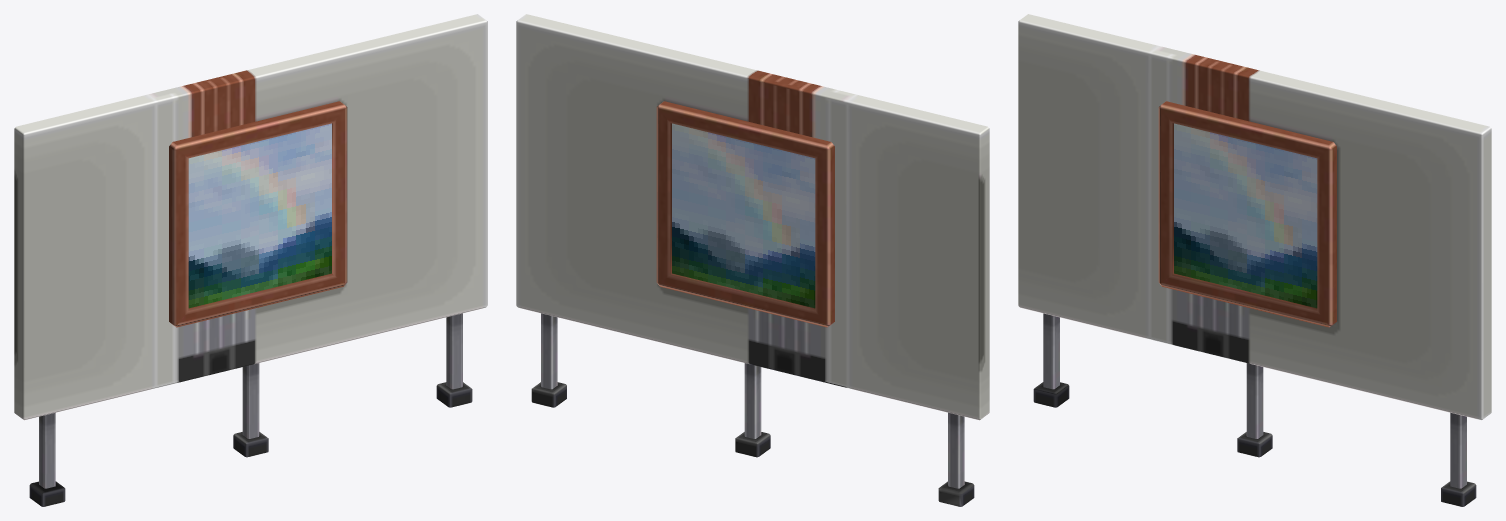
Rendered from rmk_mse_screen.dae.
The picture shows the model from 3 angles, left to right: view 1: azimuth 30°, elevation 25°; view 2: azimuth 150°, elevation 25°; view 3: azimuth 330°, elevation 25°; orthographic projection.
Visible parts, largest first — view 1: rmk_mse_screen; view 2: rmk_mse_screen; view 3: rmk_mse_screen.
Boxes of the visible parts, x1,y1,x2,y2 form: rmk_mse_screen: (14, 14, 487, 506); rmk_mse_screen: (516, 14, 989, 506); rmk_mse_screen: (1018, 14, 1491, 506).
Bounding box in the file's own units: 64 × 49.5 × 4.9.
2 materials, 2 textured.
